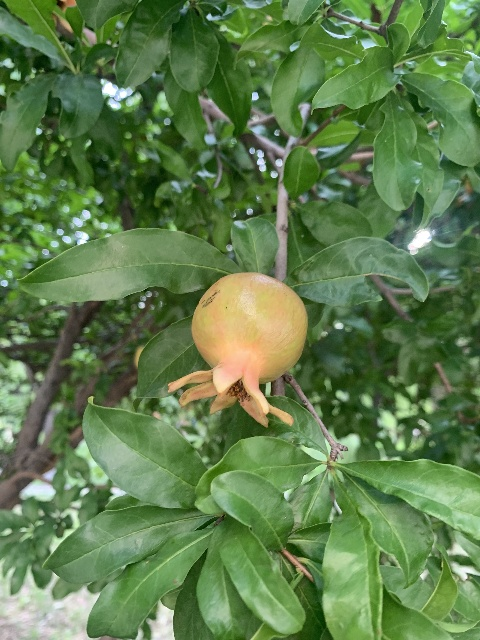mid-growth: (167, 271, 308, 429)
